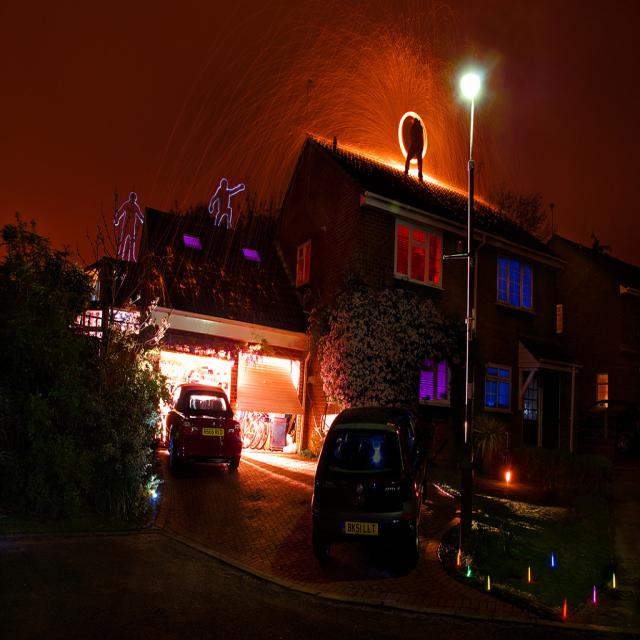Car: (282, 396, 457, 588), (152, 356, 276, 506)
